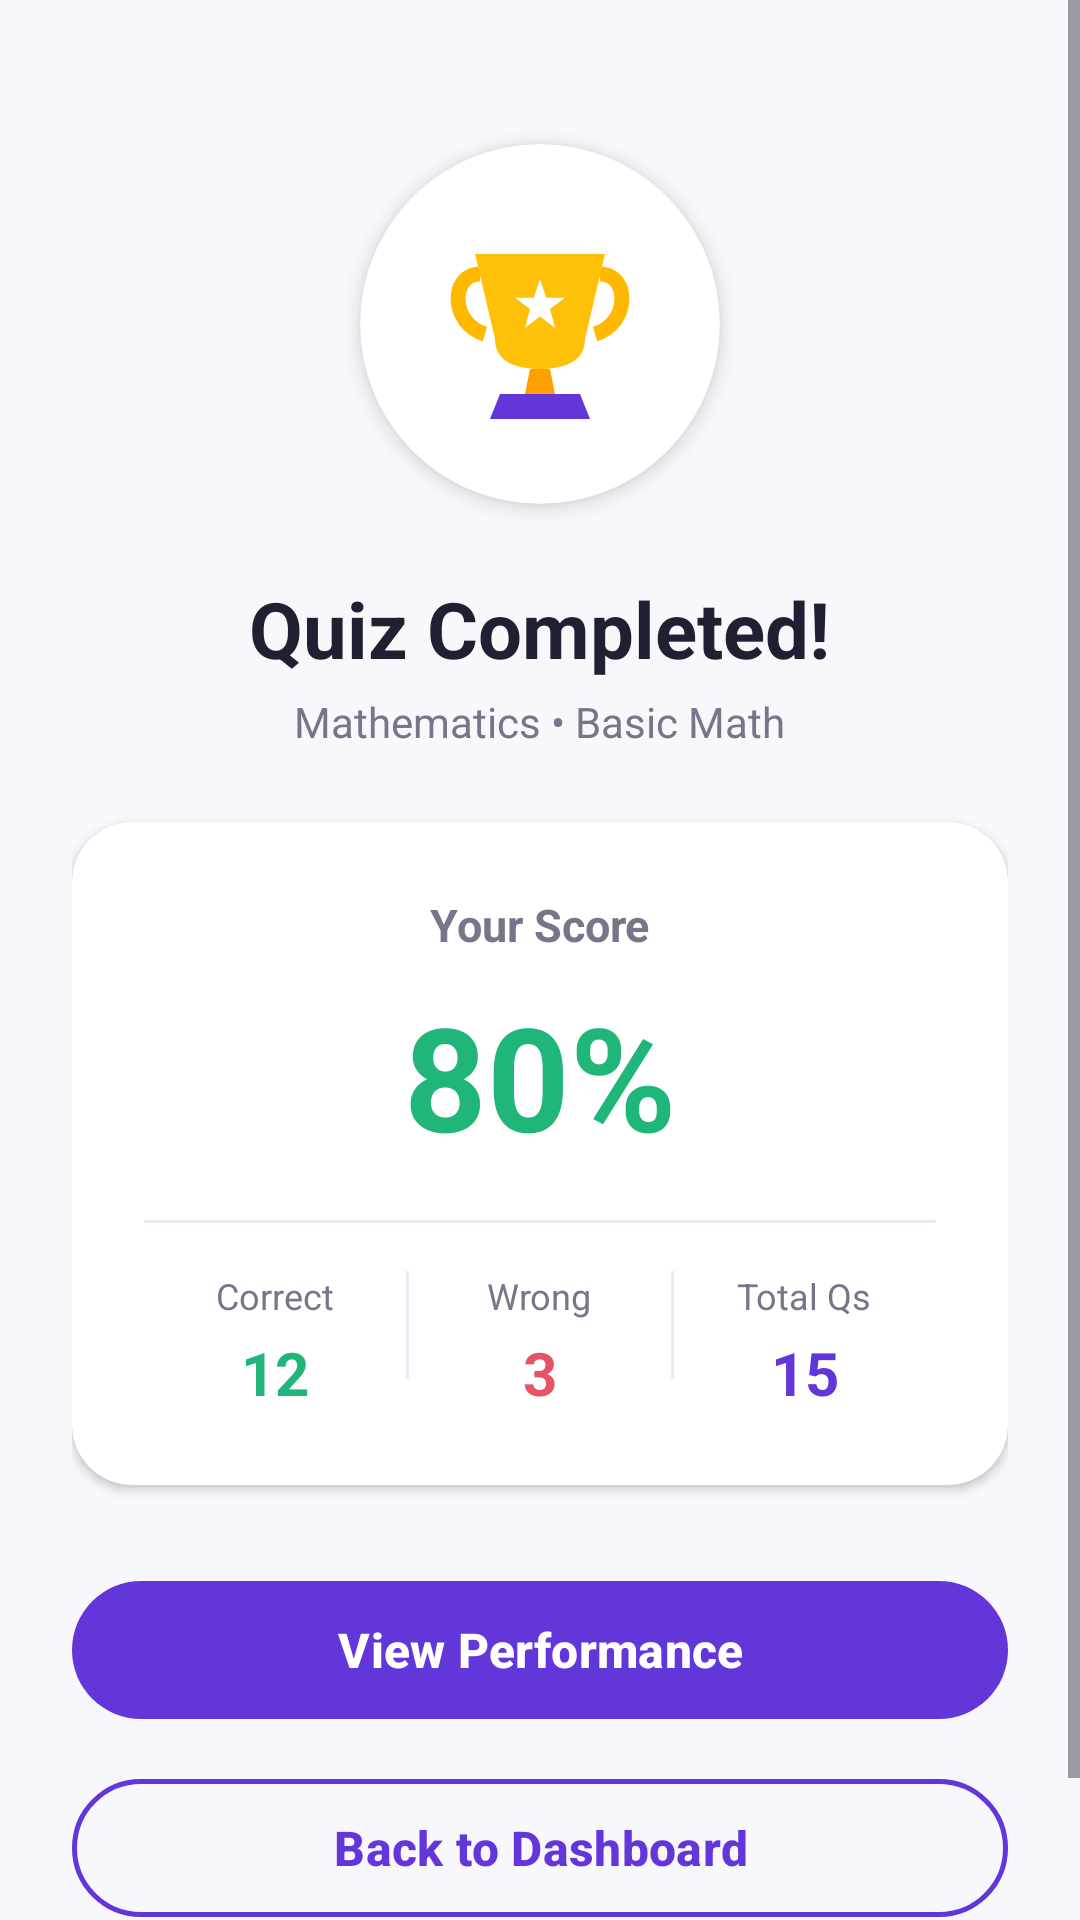

Icons on this 1080px×1920px Android screen, each with its box as (x1, y1, x2, y2):
Trophy: (450, 254, 630, 419)
